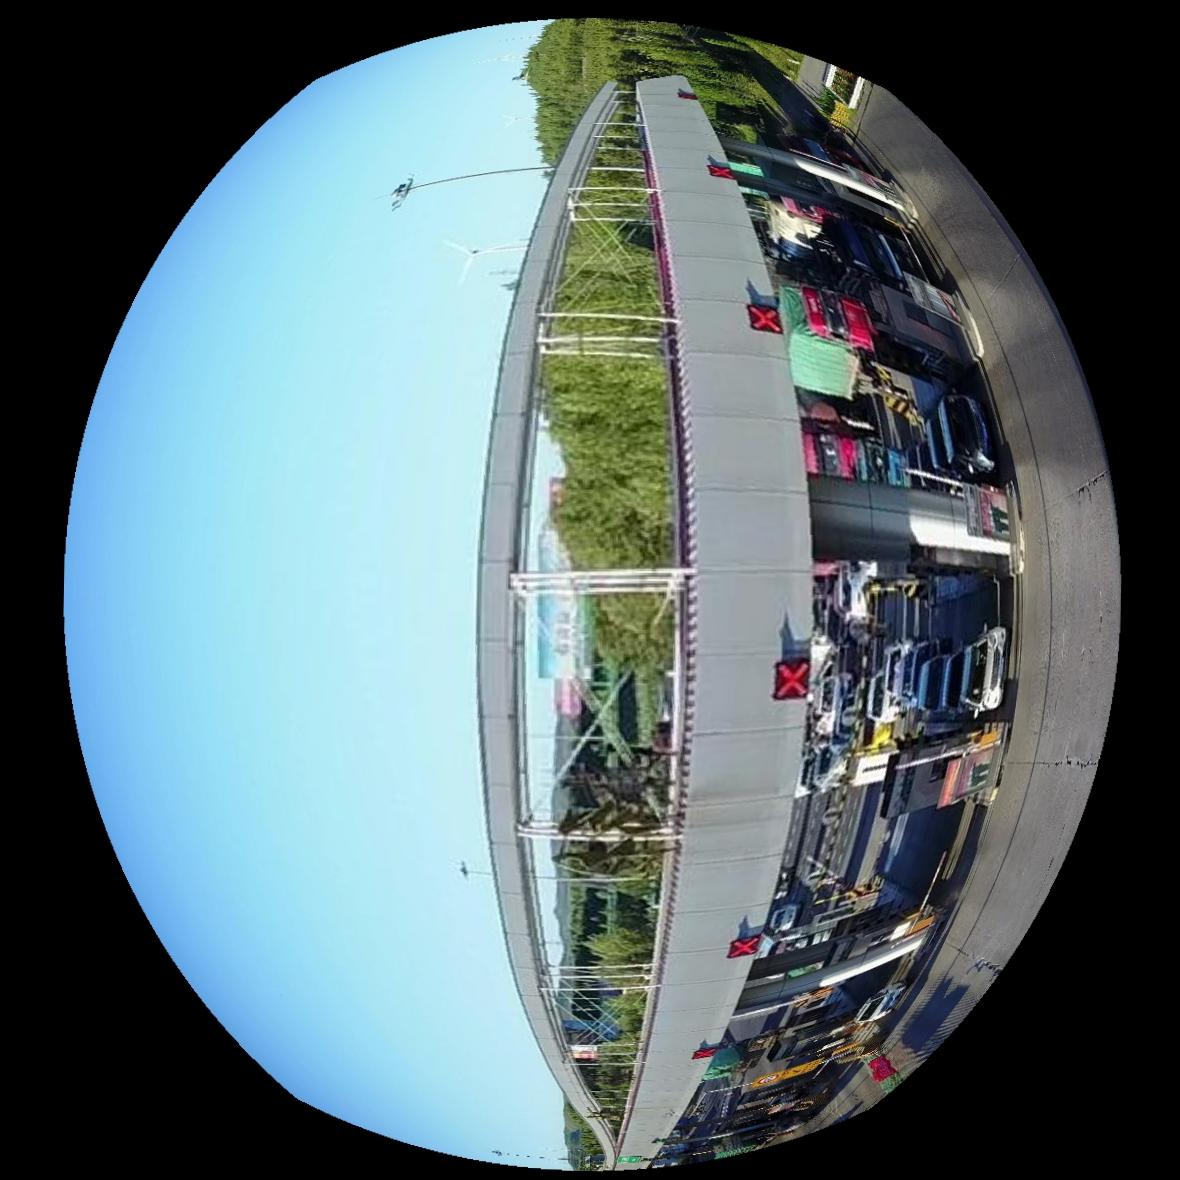building: (477, 76, 1016, 1166)
trees: (524, 710, 674, 1169), (522, 19, 772, 161), (543, 345, 673, 567), (556, 222, 663, 311), (591, 595, 673, 672)
